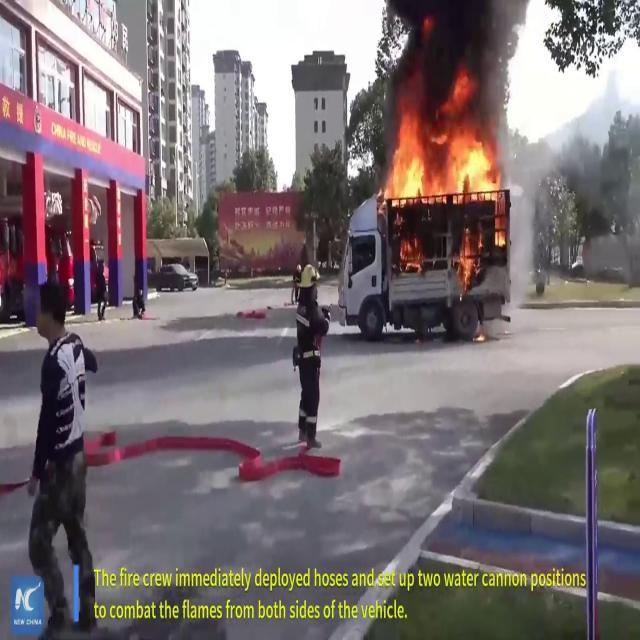Fire: (379, 92, 506, 270)
Smoke: (378, 0, 536, 128)
